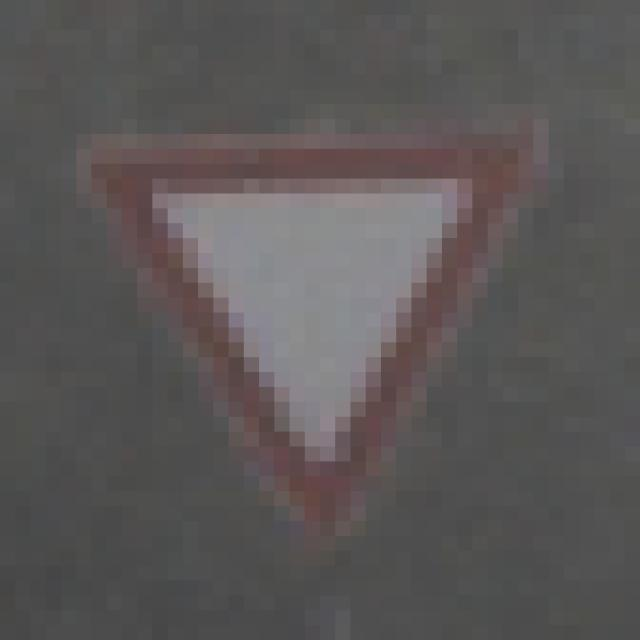Give Way: (77, 90, 565, 567)
